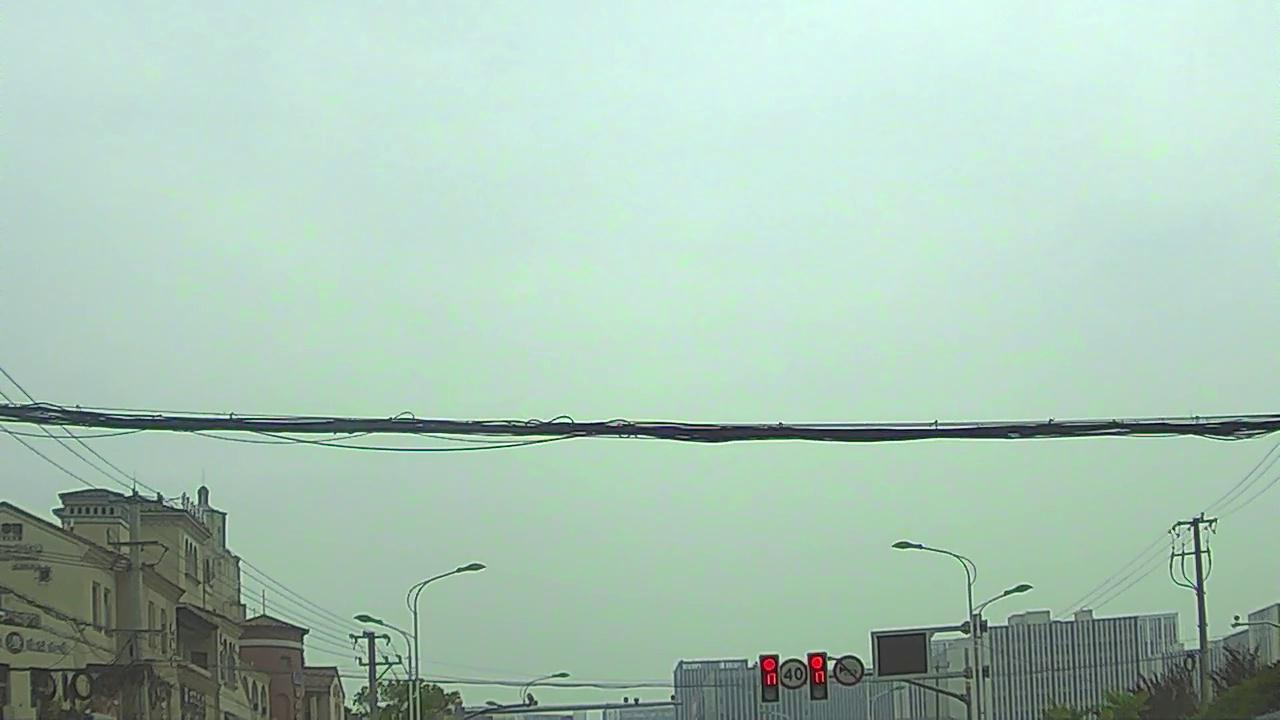traffic_light: (760, 654, 783, 700), (811, 651, 830, 700)
